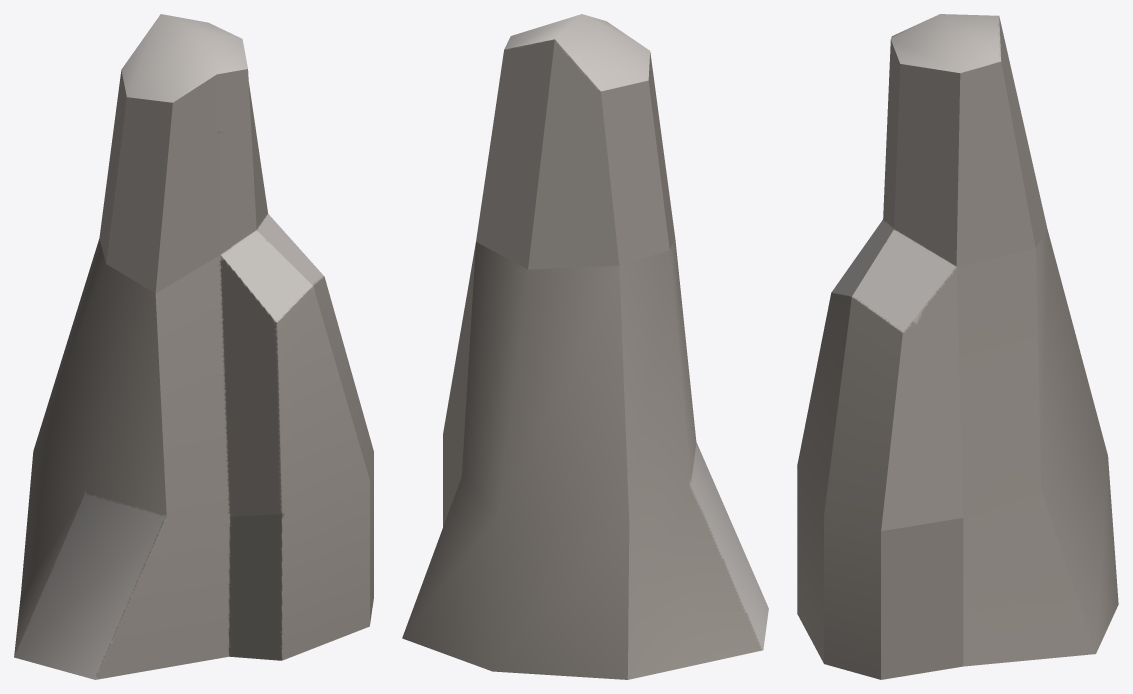
Rendered from cliff001.fbx.
The picture shows the model from 3 angles, left to right: view 1: azimuth 30°, elevation 25°; view 2: azimuth 150°, elevation 25°; view 3: azimuth 270°, elevation 25°; orthographic projection.
Parts seen in each view (by area): view 1: cliff1; view 2: cliff1; view 3: cliff1.
Boxes of the visible parts, left/top/right/bottom form: cliff1: left=14, top=14, right=373, bottom=679; cliff1: left=402, top=14, right=768, bottom=679; cliff1: left=797, top=14, right=1118, bottom=679.
Size of the model in its own units: 44.2 by 74.33 by 36.65.
